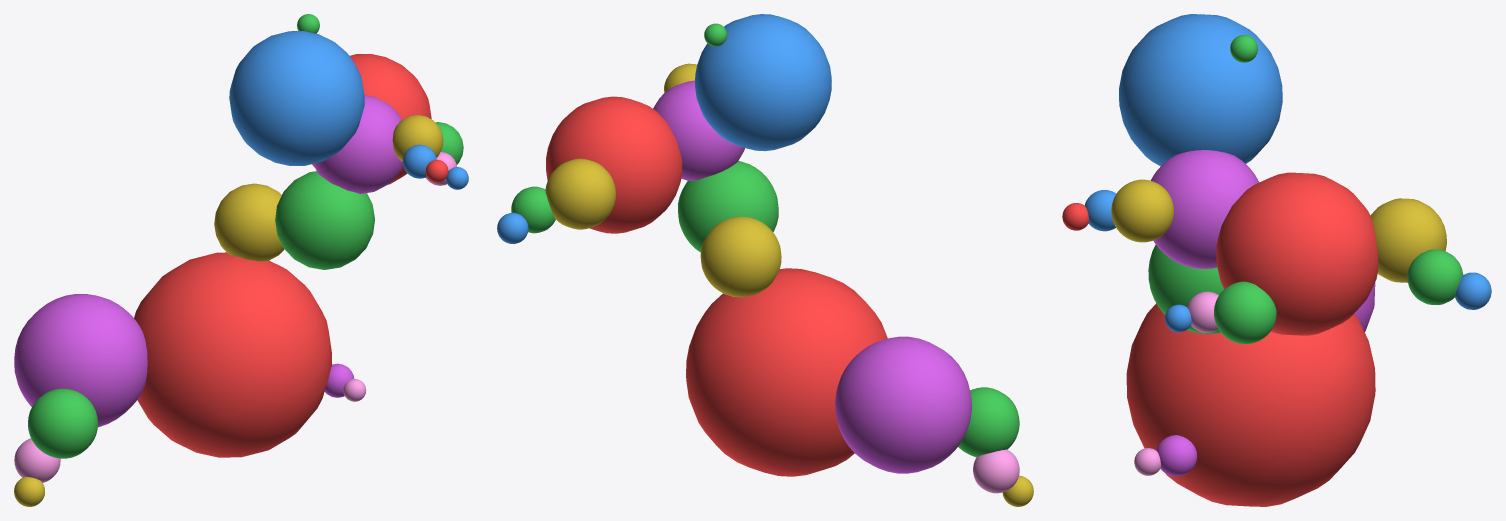
The model's file is bubbleArtStatue.fbx.
The picture shows the model from 3 angles, left to right: view 1: azimuth 30°, elevation 25°; view 2: azimuth 150°, elevation 25°; view 3: azimuth 270°, elevation 25°; orthographic projection. The views are drawn at different scales.
Visible parts, largest first — view 1: pSphere15, pSphere12, pSphere20, pSphere13, pSphere2, pSphere14, pSphere19, pSphere7, pSphere1, pSphere22, pSphere3, pSphere21 (+2 smaller); view 2: pSphere15, pSphere20, pSphere12, pSphere7, pSphere13, pSphere14, pSphere2, pSphere8, pSphere19, pSphere22, pSphere5, pSphere6 (+1 smaller); view 3: pSphere15, pSphere7, pSphere12, pSphere2, pSphere8, pSphere1, pSphere11, pSphere13, pSphere5, pSphere17, pSphere6, pSphere3 (+5 smaller).
Boxes of the visible parts, x1,y1,x2,y2 form: pSphere15: (134,252,331,457); pSphere12: (229,31,364,165); pSphere20: (14,294,147,427); pSphere13: (275,171,374,269); pSphere2: (313,95,403,193); pSphere14: (214,183,284,261); pSphere19: (28,388,97,458); pSphere7: (312,54,431,184); pSphere1: (392,115,443,161); pSphere22: (14,438,60,482); pSphere3: (402,144,436,178); pSphere21: (14,477,44,506); pSphere15: (686,268,887,476); pSphere20: (835,336,971,473); pSphere12: (695,14,831,151); pSphere7: (546,96,682,233); pSphere13: (678,160,778,252); pSphere14: (700,216,781,297); pSphere2: (653,80,744,180); pSphere8: (545,158,615,229); pSphere19: (958,387,1019,457); pSphere22: (973,449,1019,493); pSphere5: (511,186,555,233); pSphere6: (497,212,528,243); pSphere15: (1126,303,1375,506); pSphere7: (1216,172,1378,335); pSphere12: (1119,14,1282,166); pSphere2: (1151,150,1259,268); pSphere8: (1370,198,1446,282); pSphere1: (1111,179,1173,242); pSphere11: (1214,281,1276,344); pSphere13: (1148,244,1224,333); pSphere5: (1407,249,1463,305); pSphere17: (1156,435,1197,476); pSphere6: (1455,272,1491,309); pSphere3: (1084,190,1116,231).
Bounding box in the file's own units: 15.82 × 13.85 × 10.67.
